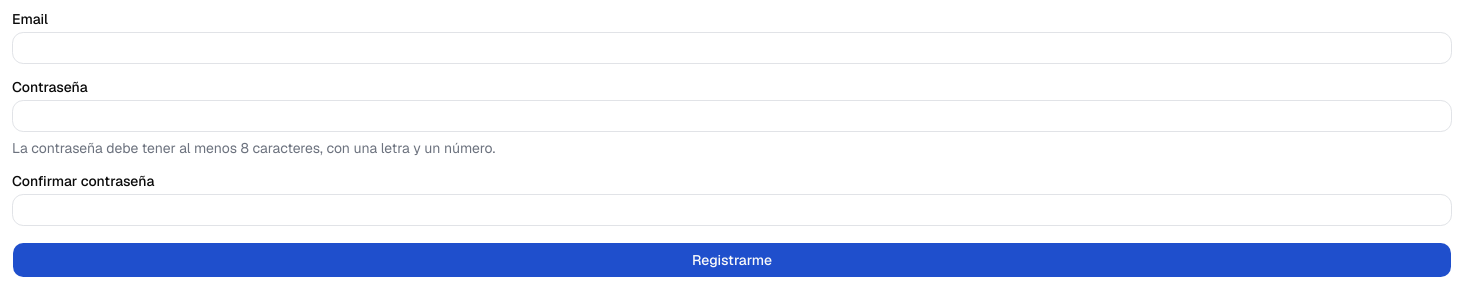
it: RegisterForm (spec: web-auth-flow Registration) › shows the 'revisa tu email' success screen on successful registration (no redirect, no auto-login)
Type "user@example.com" into the field labelled "Email" at [732, 48], box [12,32,1452,64]
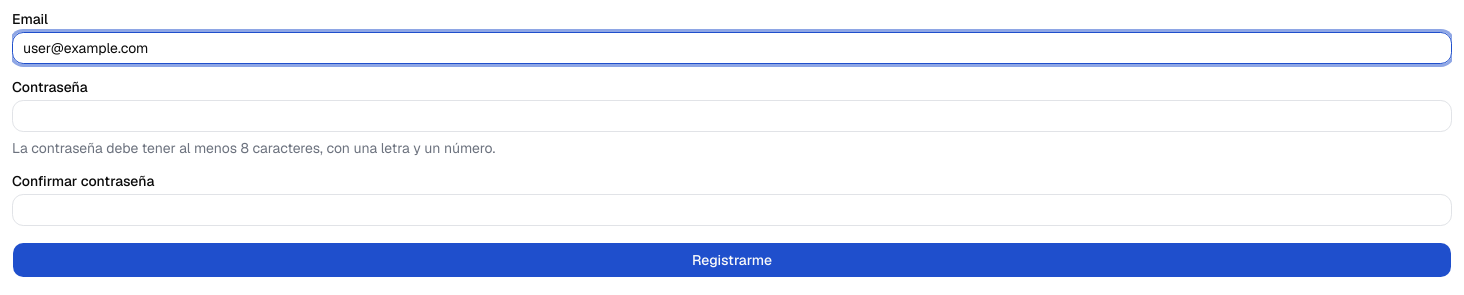
Type "correcthorse1" into the password field labelled "Contraseña" at [732, 116], box [12,100,1452,132]
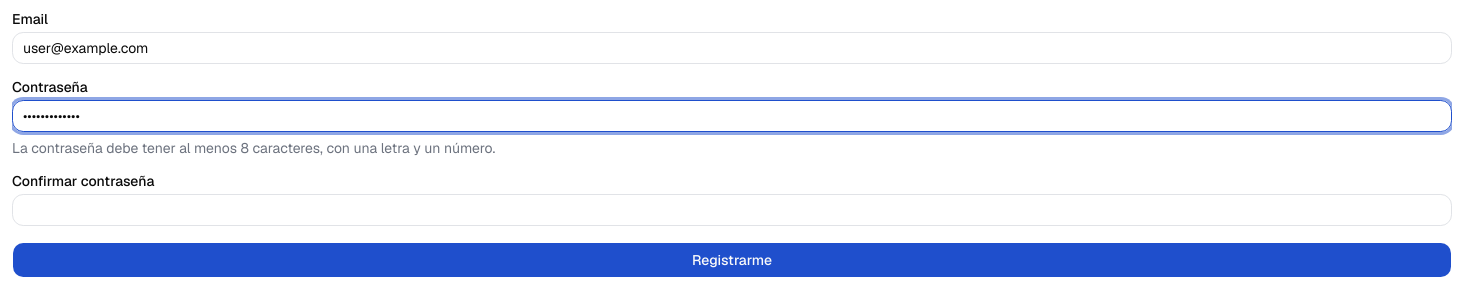
Type "correcthorse1" into the password field labelled "Confirmar contraseña" at [732, 210], box [12,194,1452,226]
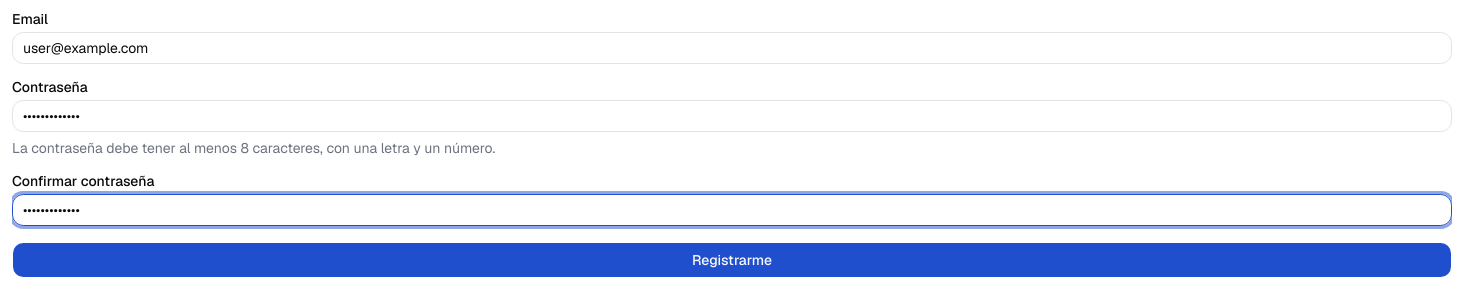
Click the button "Registrarme" at [732, 260], box [12,242,1452,278]
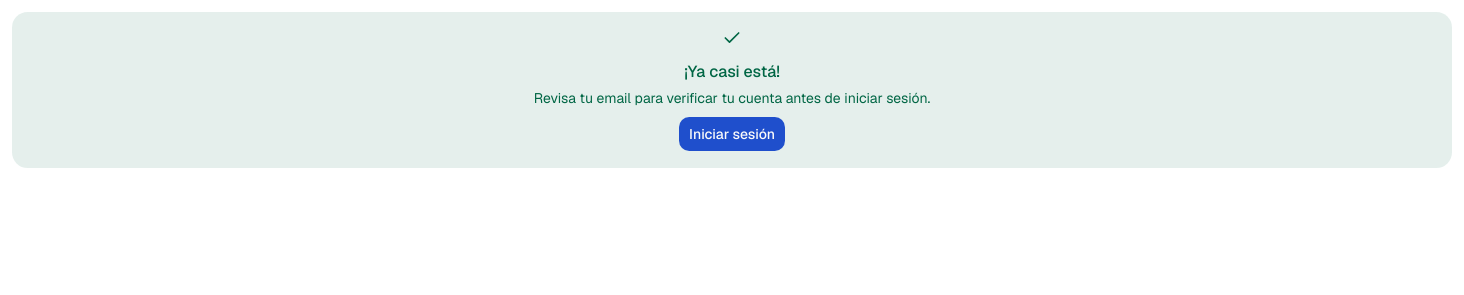
Now the text "Revisa tu email para verificar tu cuenta antes de iniciar sesión." is shown, box [534,88,930,108]
